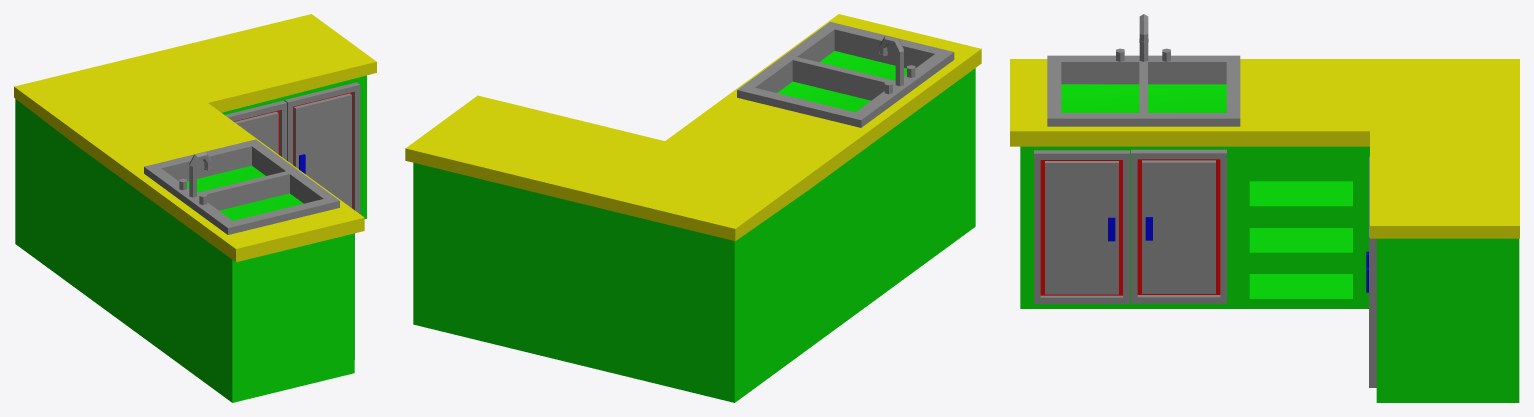
File: Big_Comptoir1.fbx
3 renders of one model, left to right at view 1: azimuth 30°, elevation 25°; view 2: azimuth 150°, elevation 25°; view 3: azimuth 270°, elevation 25°, orthographic. The views are drawn at different scales.
Parts seen in each view (by area): view 1: pCylinder22; view 2: pCylinder22; view 3: pCylinder22.
Part boxes in pixels (x1=…): pCylinder22: x1=14, y1=14, x2=376, y2=402; pCylinder22: x1=405, y1=14, x2=981, y2=402; pCylinder22: x1=1010, y1=14, x2=1519, y2=402.
Bounding box in the file's own units: 317 × 209 × 410.
